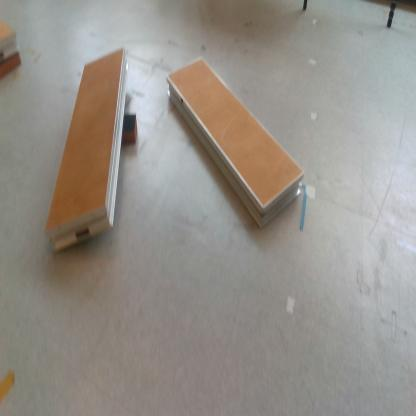Stairs: (167, 56, 304, 232), (46, 48, 131, 253), (1, 19, 20, 68)
